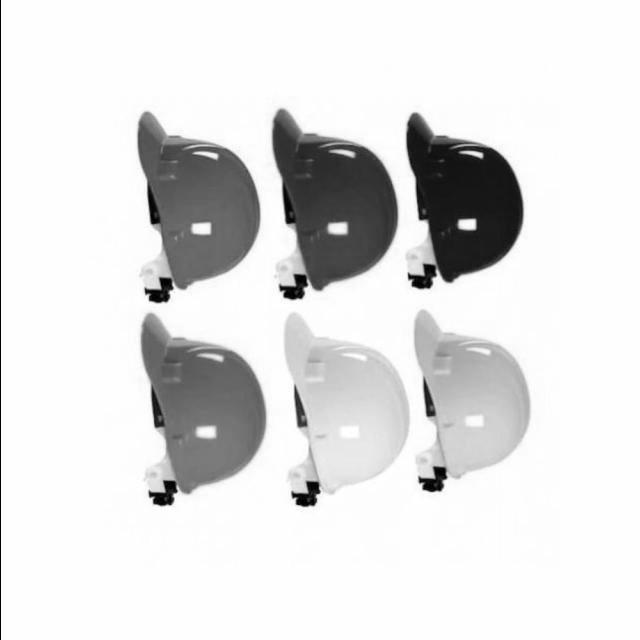construction helmet: (136, 312, 263, 508), (279, 312, 404, 509), (132, 109, 258, 301), (268, 108, 397, 292), (409, 308, 531, 494), (401, 111, 524, 284)
